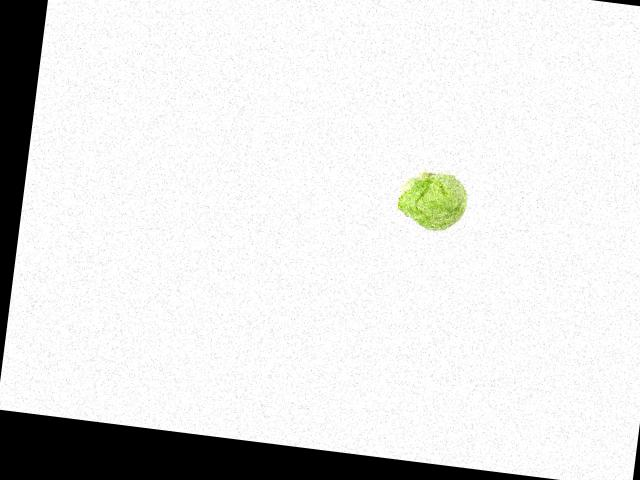lettuce: (386, 167, 476, 241)
